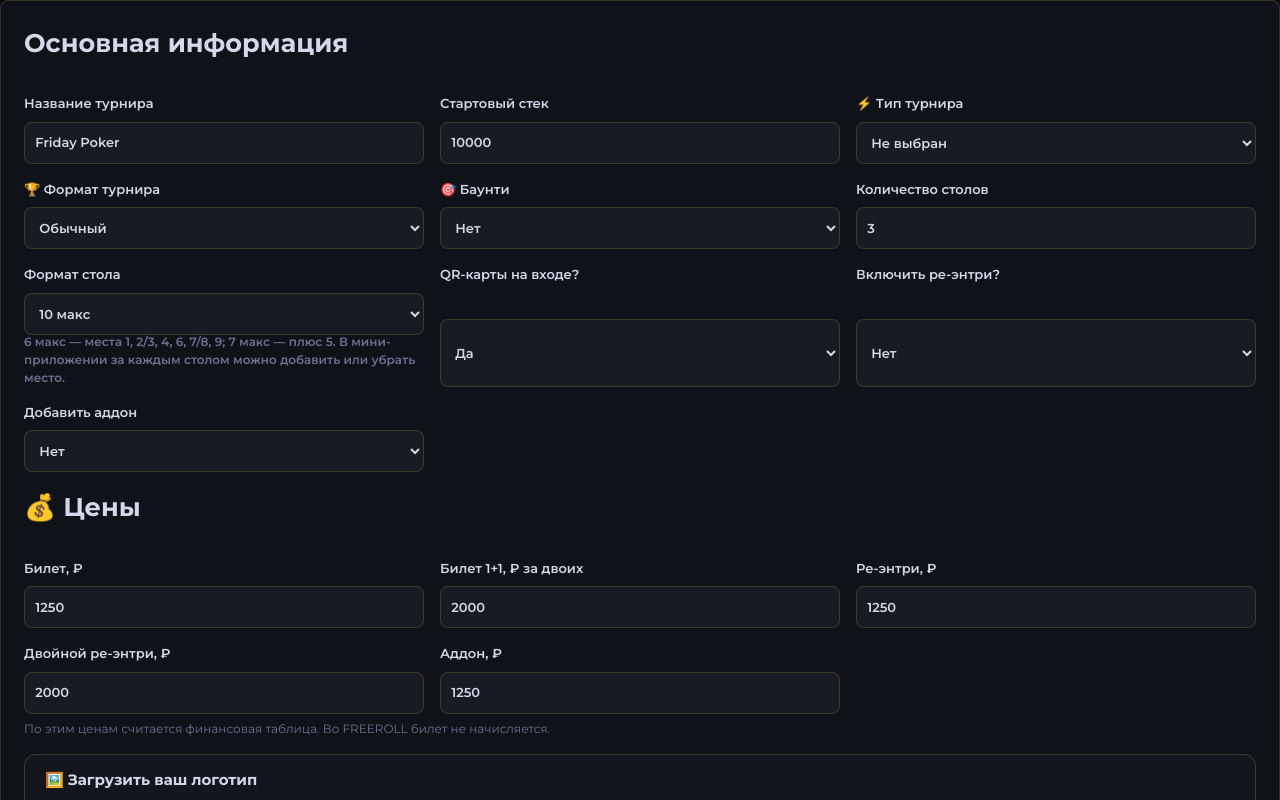
Test case: re-entry settings UI › autofills every field when the PHOENIX preset is picked
Select "Феникс" in the dropdown labelled "⚡ Тип турнира" at (1056, 143), box [856,122,1256,164]
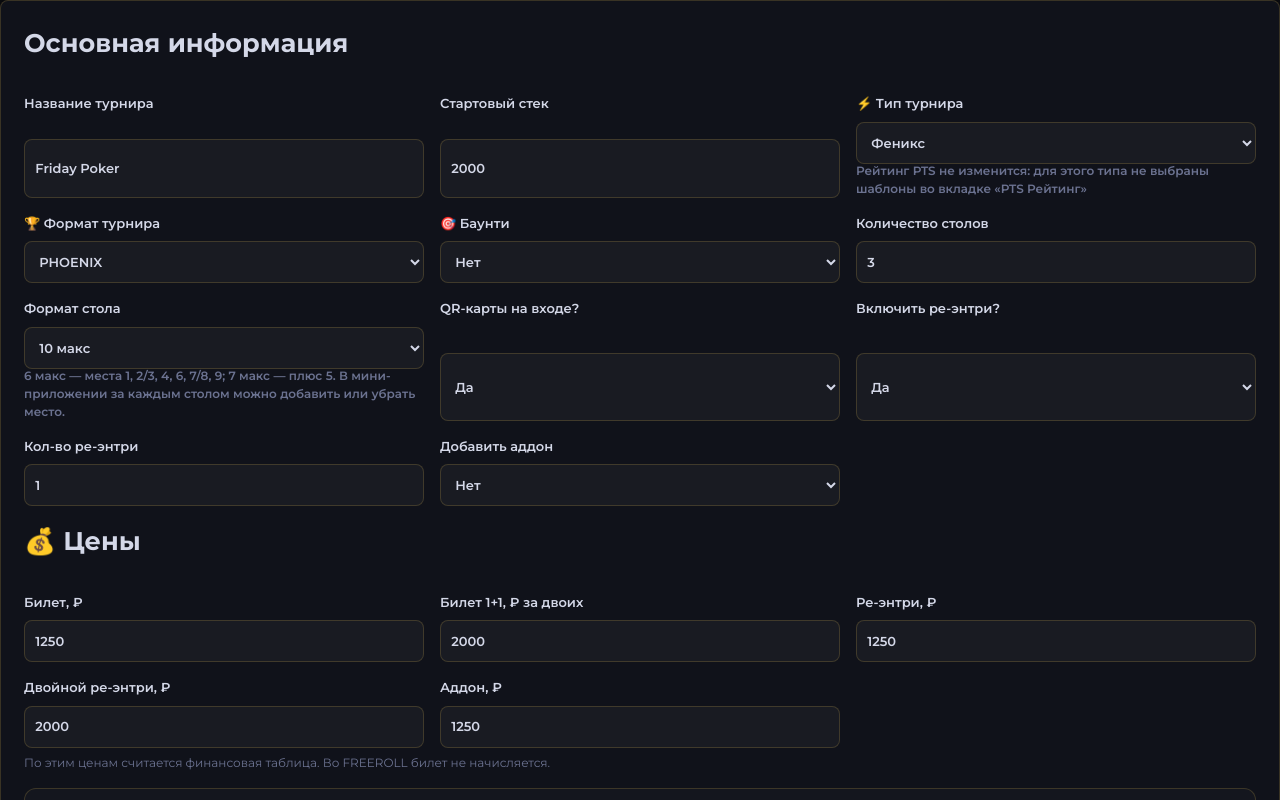
Expected: the dropdown labelled "🏆 Формат турнира" shows "PHOENIX", [24,241,424,283]
Expected: the dropdown labelled "Включить ре-энтри?" shows "Да", [856,353,1256,421]
Expected: the number field labelled "Кол-во ре-энтри" holds "1", [24,464,424,506]
